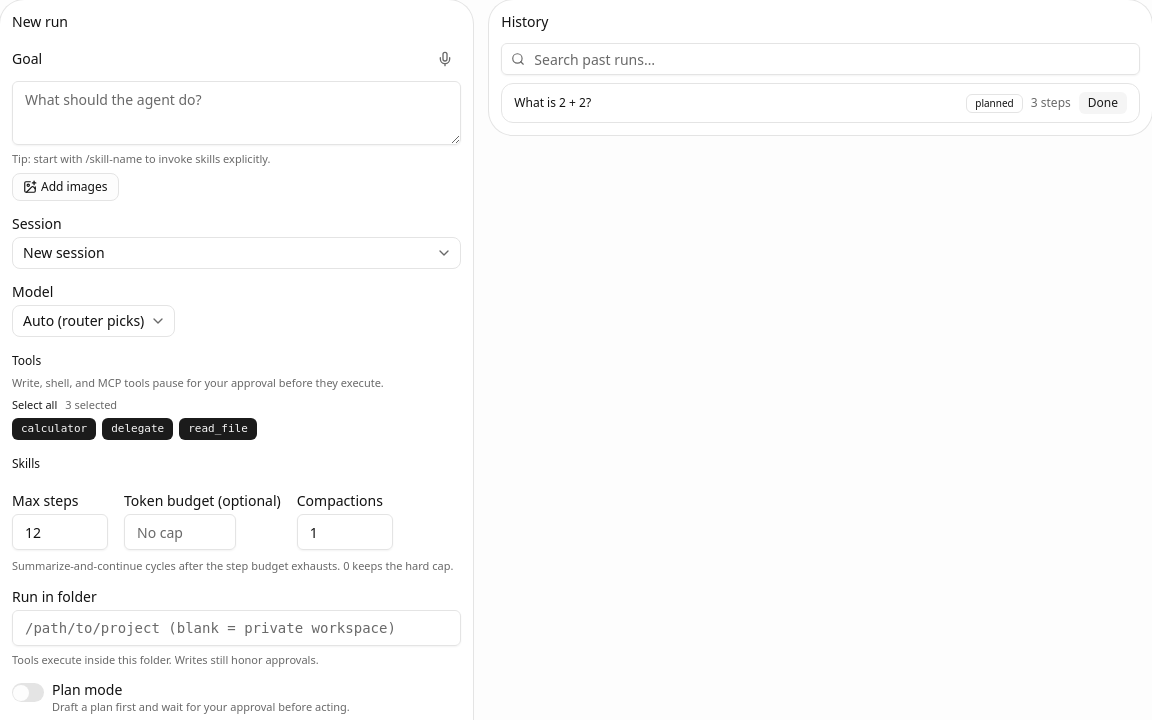
Test: renders the plan step and planned badge
Click the button "What is 2 + 2? planned 3 steps Done" at (553, 103), box [501,83,1140,123]
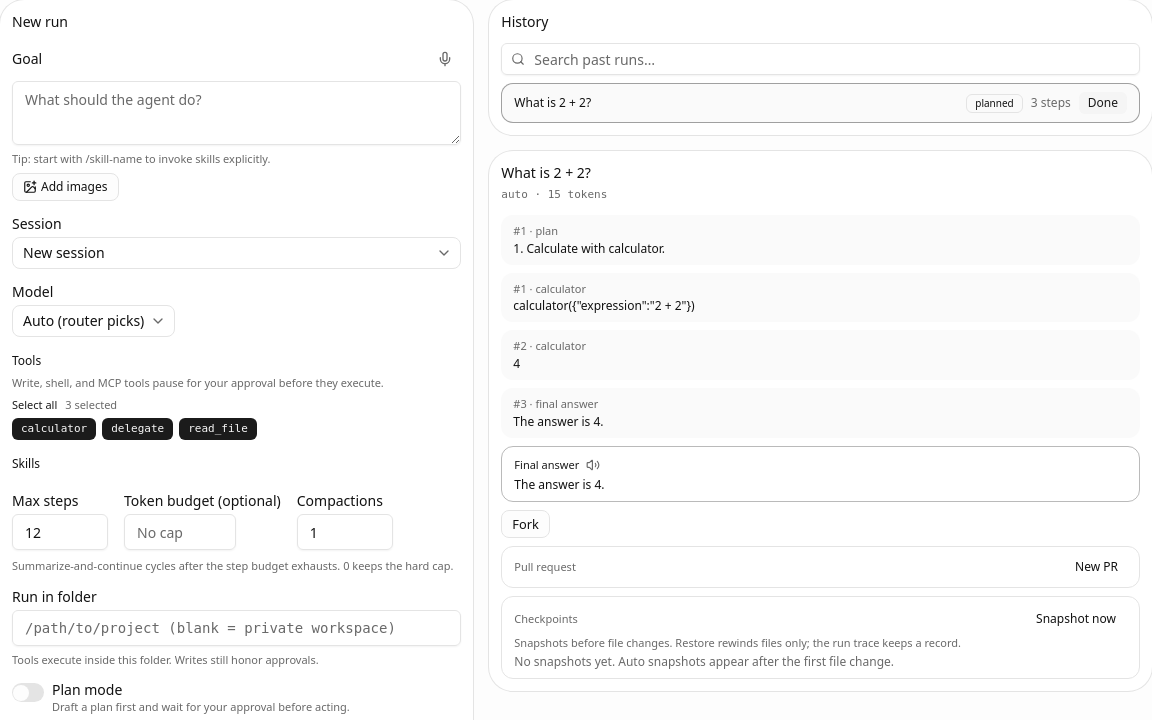
Now the text "1. Calculate with calculator." is shown, box [513,240,665,257]
